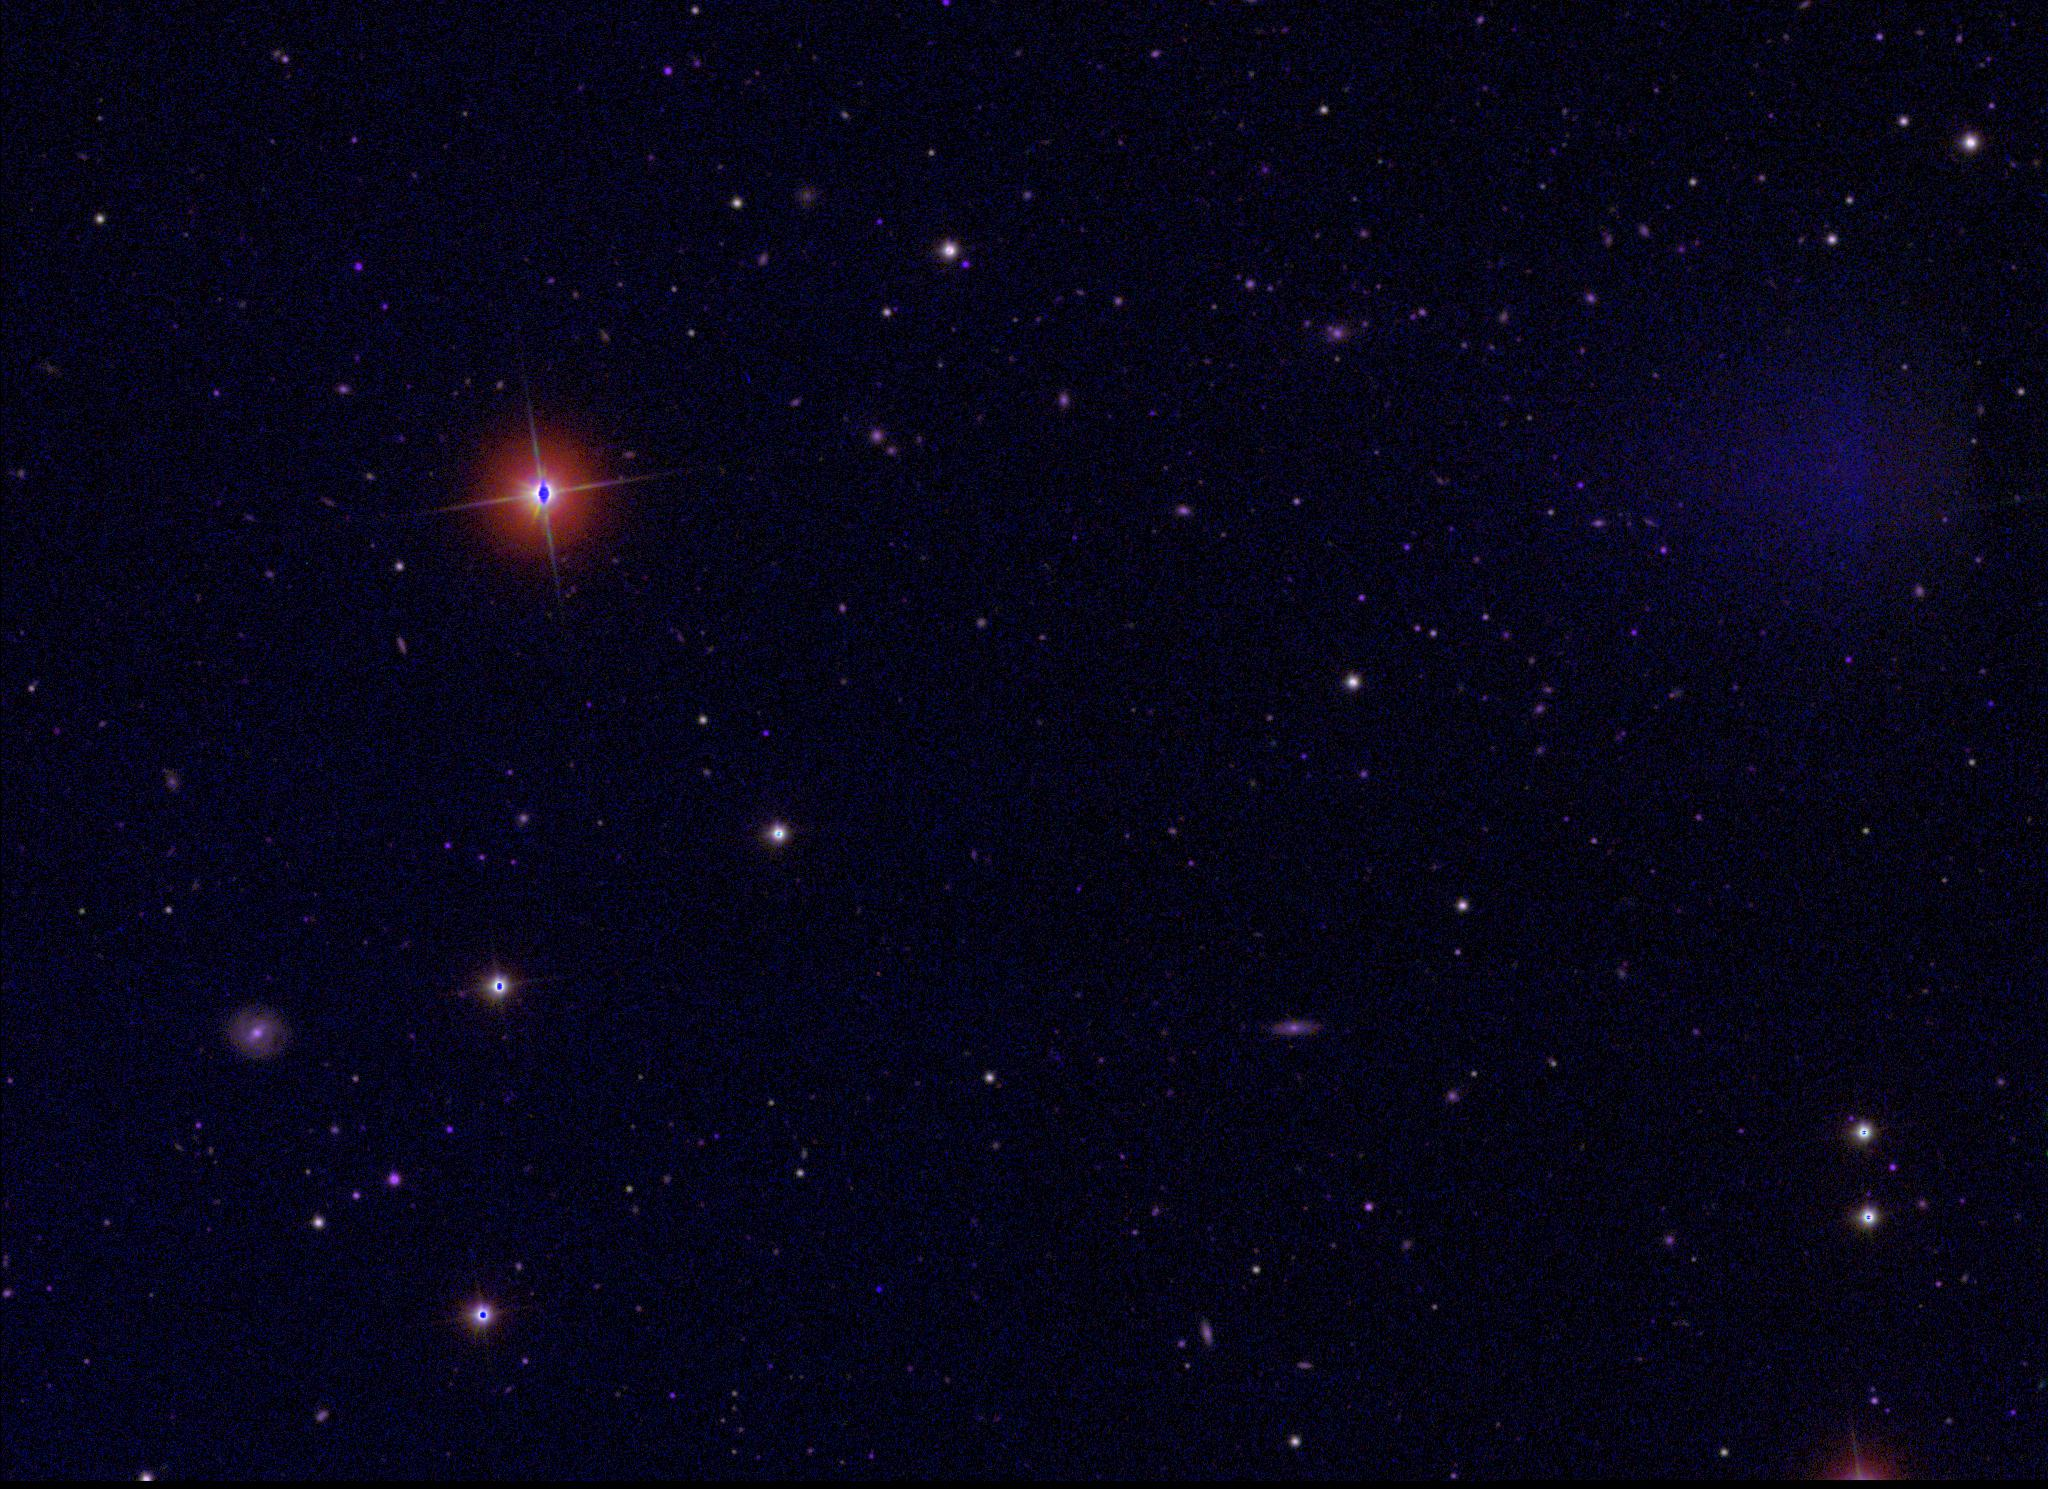L: (871, 1284, 886, 1297)
